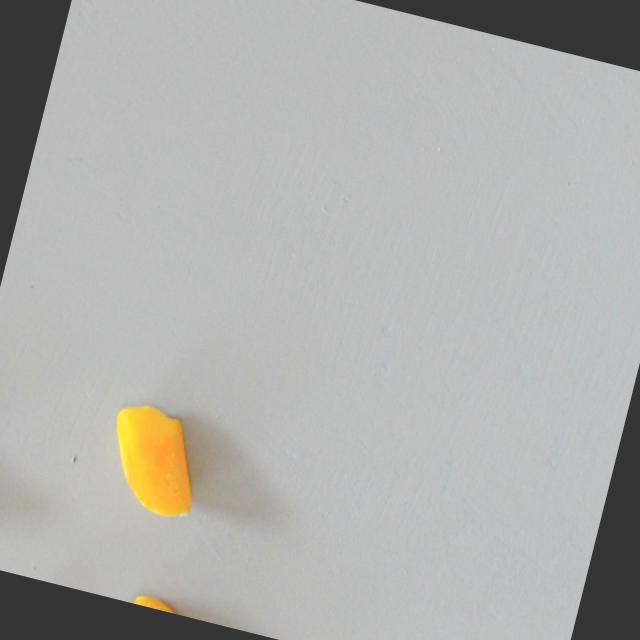dañado: (91, 392, 216, 528), (105, 580, 235, 628)
